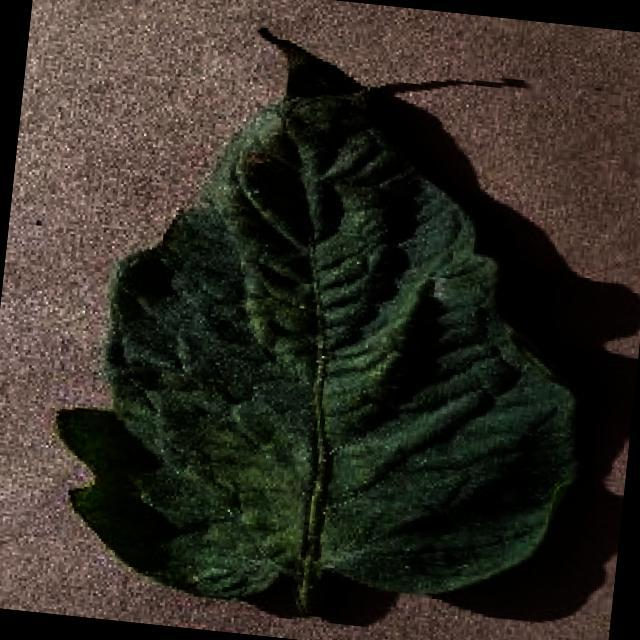Tomato spider mites leaf: (36, 4, 624, 636)
